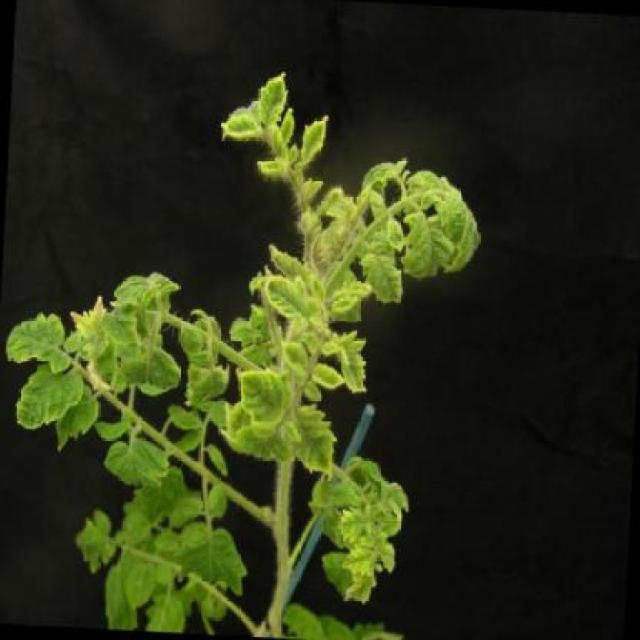Healthy Leaf: (225, 358, 296, 439), (293, 392, 344, 498), (15, 363, 92, 431), (5, 305, 72, 380), (361, 247, 413, 310), (262, 272, 319, 326), (401, 206, 439, 280), (259, 57, 296, 133), (331, 334, 376, 396), (341, 559, 379, 615), (215, 107, 262, 144), (332, 504, 372, 544), (408, 164, 445, 201), (339, 545, 377, 572)
